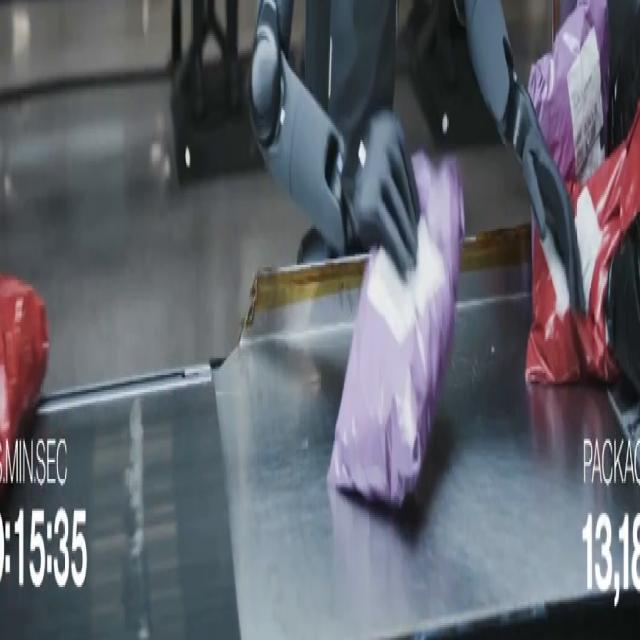package: (328, 153, 464, 506), (526, 111, 639, 383), (528, 0, 609, 180), (0, 274, 49, 491), (606, 219, 639, 396), (608, 5, 639, 152)
